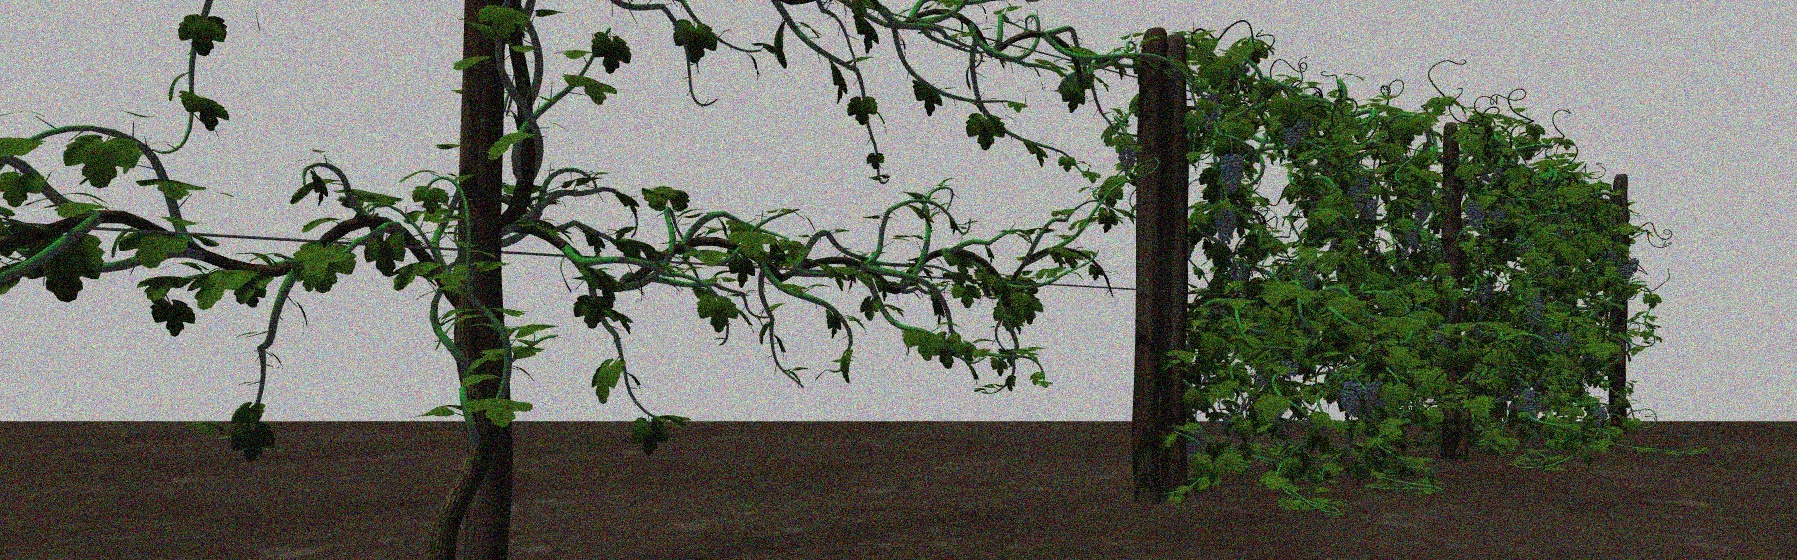grape: (1219, 152, 1243, 194), (1213, 205, 1237, 244), (1364, 380, 1386, 421), (1340, 380, 1362, 417), (1348, 178, 1370, 208), (1187, 427, 1207, 459), (1117, 140, 1137, 169), (1524, 297, 1544, 324), (1467, 202, 1484, 229), (1522, 391, 1540, 416), (1413, 200, 1431, 223), (1405, 224, 1422, 249), (1362, 199, 1378, 222), (1592, 407, 1608, 427), (1284, 128, 1300, 147), (1629, 258, 1639, 273), (1621, 265, 1631, 279)
